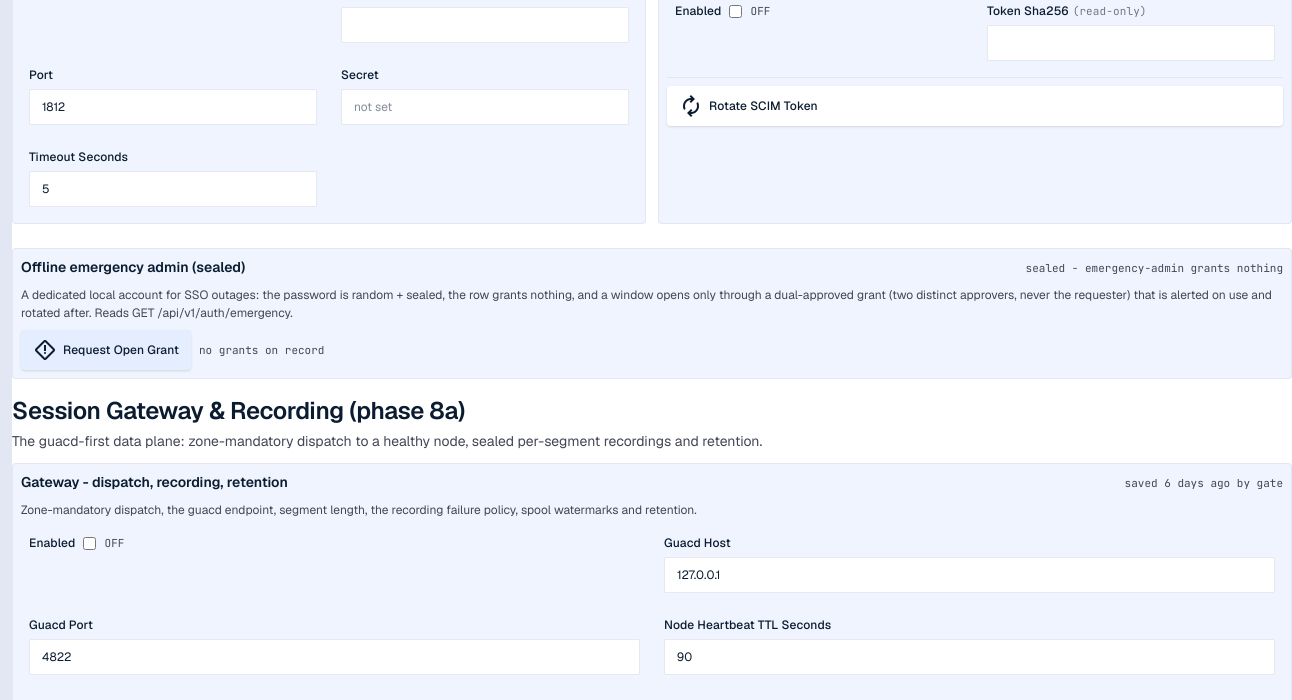
Test: sealed emergency card (screen 11, ADR-0015 11.4) › asks the legacy prompt and refuses a short reason with the verbatim 400 line
(page scrolled)
Expected: the text with test id "settings-emergency-state" reads "sealed - emergency-admin grants nothing", [1026, 260, 1283, 274]
Click the button "Request Open Grant". click: point(106, 350)
box: [21, 330, 191, 370]
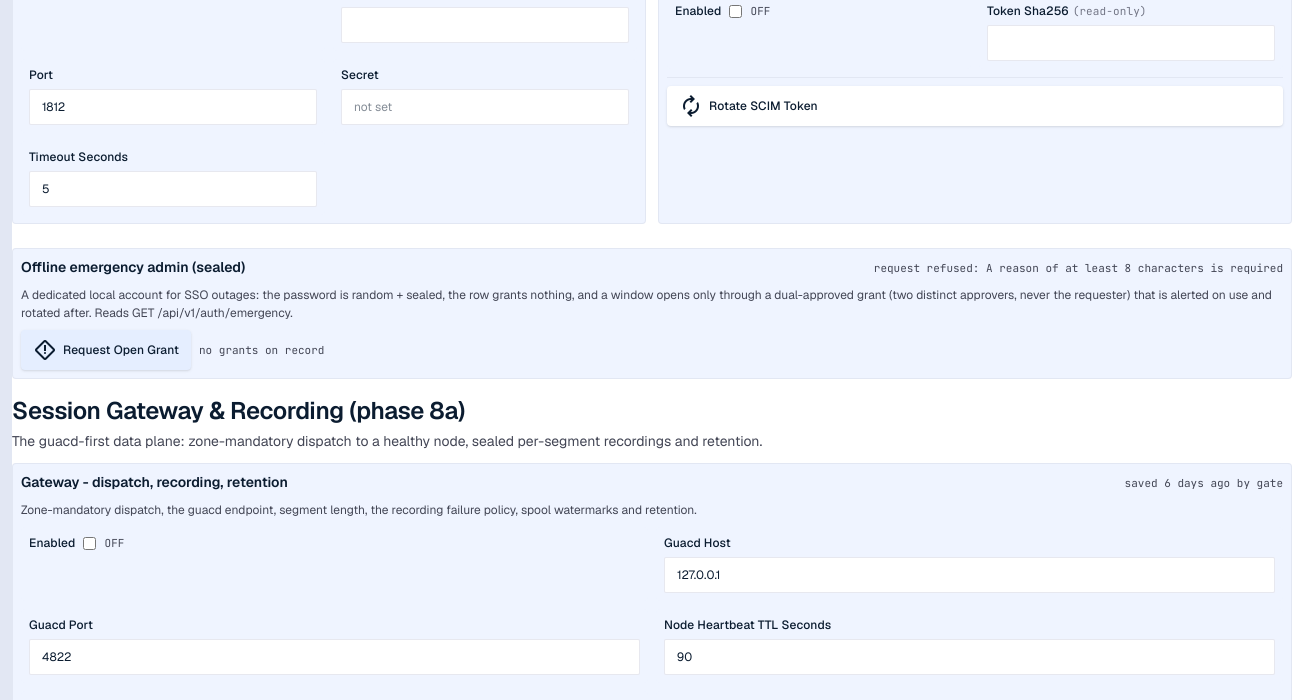
Now the text with test id "settings-emergency-state" reads "request refused: A reason of at least 8 characters is required", box [874, 260, 1283, 274]
